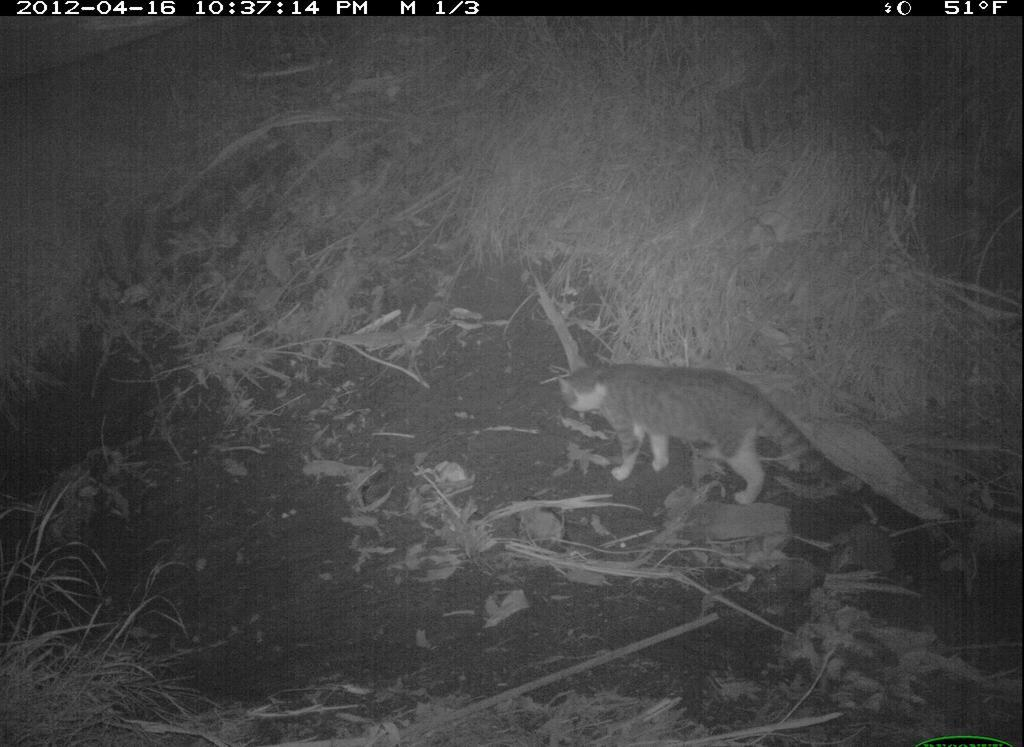cat: (546, 347, 867, 523)
